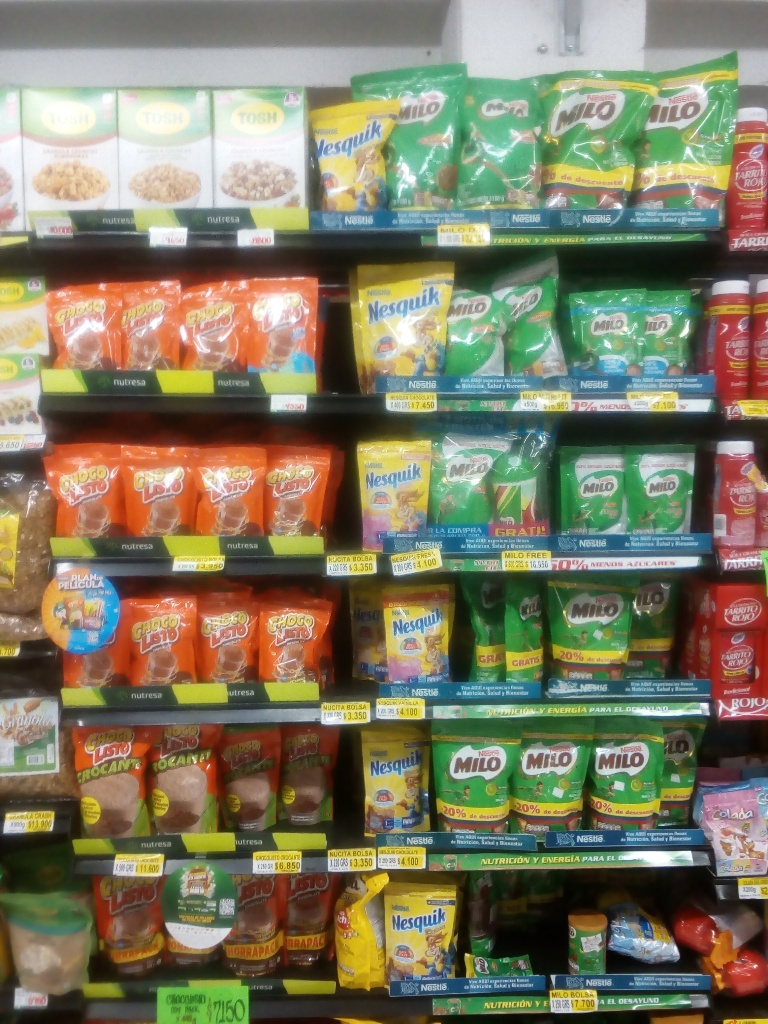COL0170102DYP25000: (273, 724, 344, 835)
COL0170102DYP50000: (142, 722, 222, 844)
COL0170103DYP20000: (133, 595, 200, 688)
COL0170103DYP44000: (93, 873, 169, 977)
COL0170104DYP20000: (243, 277, 320, 379)
COL0170203DYP25000: (547, 572, 637, 694)
COL0170203LAT20000: (566, 903, 609, 978)
COL0170205DYP20000: (569, 291, 647, 389)
COL0170205DYP50000: (438, 276, 521, 390)
COL0170303DYP20000: (306, 104, 397, 217)
COL0170305DYP20000: (383, 584, 458, 690)
COL0170306DYP20000: (341, 589, 401, 678)
